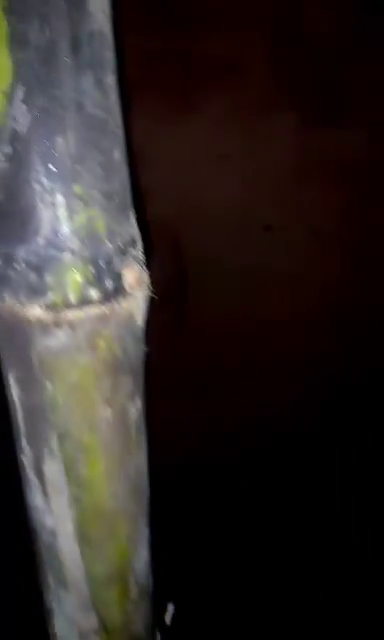cane eye: (105, 254, 158, 301)
